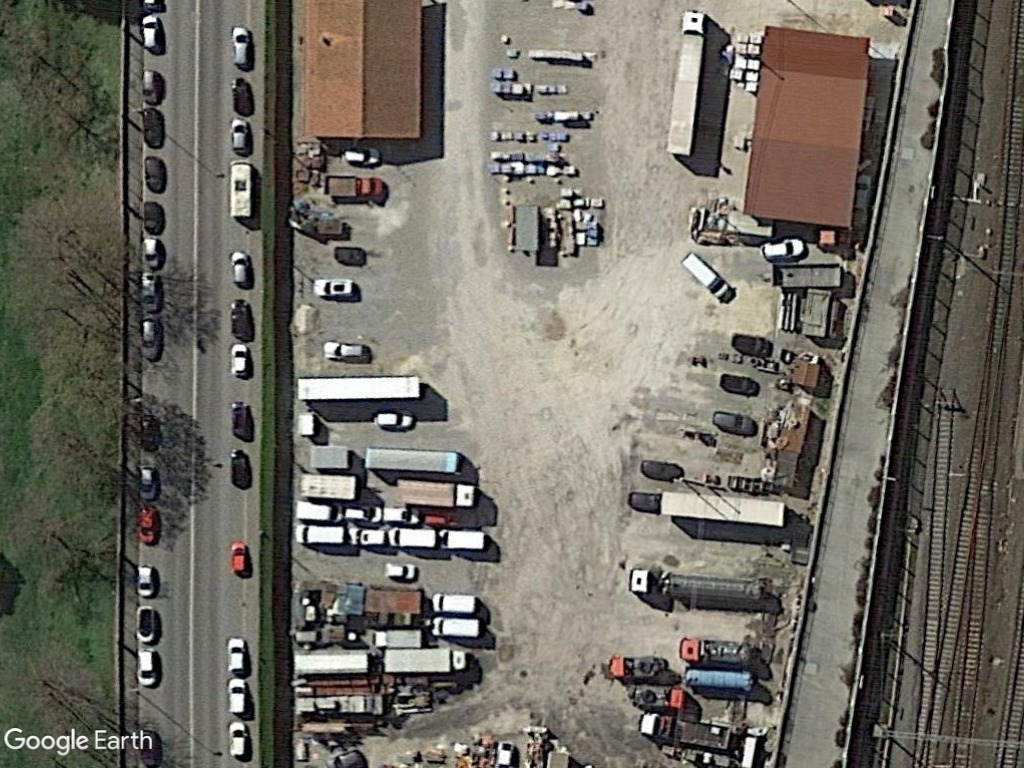bus: (360, 444, 470, 475), (226, 157, 256, 221)
car: (708, 407, 761, 438), (321, 338, 376, 367), (227, 23, 257, 71), (133, 503, 164, 547), (136, 315, 165, 362), (223, 674, 253, 719), (758, 235, 807, 262), (133, 645, 162, 690), (224, 634, 252, 679), (309, 275, 359, 300), (137, 10, 165, 54), (227, 247, 255, 290), (132, 561, 162, 601), (345, 524, 389, 551), (227, 537, 254, 581), (136, 269, 162, 314), (342, 500, 385, 527), (371, 408, 419, 432), (227, 114, 253, 157), (227, 340, 254, 381), (341, 143, 385, 168), (225, 716, 250, 758), (136, 463, 161, 503), (139, 234, 166, 271), (381, 559, 422, 583), (134, 602, 158, 643), (140, 65, 163, 107)
longvehicle: (661, 7, 713, 162), (627, 564, 777, 615), (656, 486, 793, 532), (294, 375, 426, 401)
other: (636, 708, 740, 754), (678, 636, 757, 667), (323, 172, 391, 205), (606, 650, 672, 682)
truck: (393, 476, 481, 512), (380, 647, 472, 676)
van: (677, 249, 736, 304), (293, 495, 347, 527), (292, 522, 350, 549), (435, 524, 486, 554), (385, 524, 441, 551), (425, 615, 483, 641), (428, 590, 480, 616)
